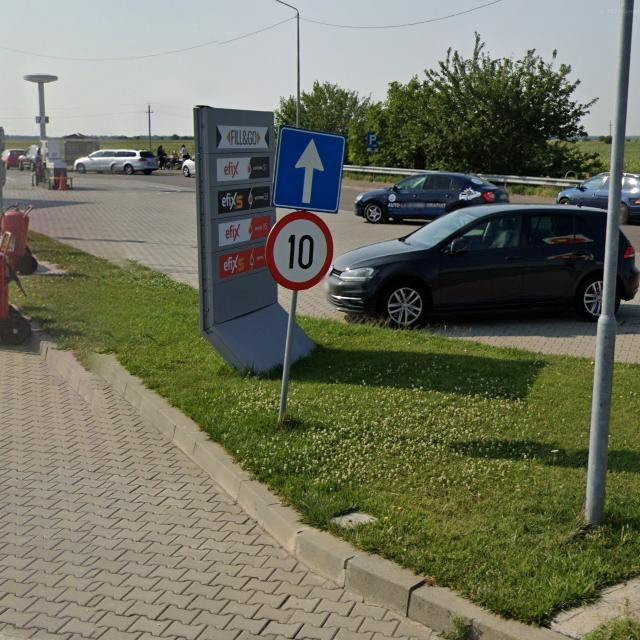forb_speed_over_10: (267, 211, 334, 288)
